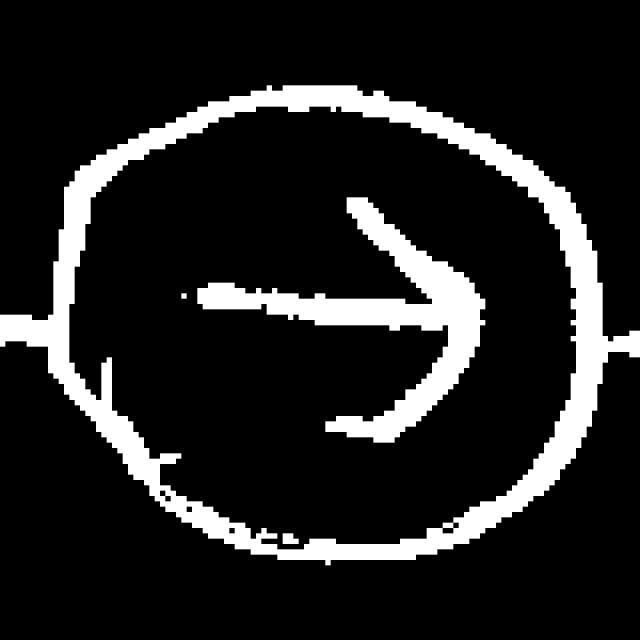current_source: (44, 62, 624, 576)
